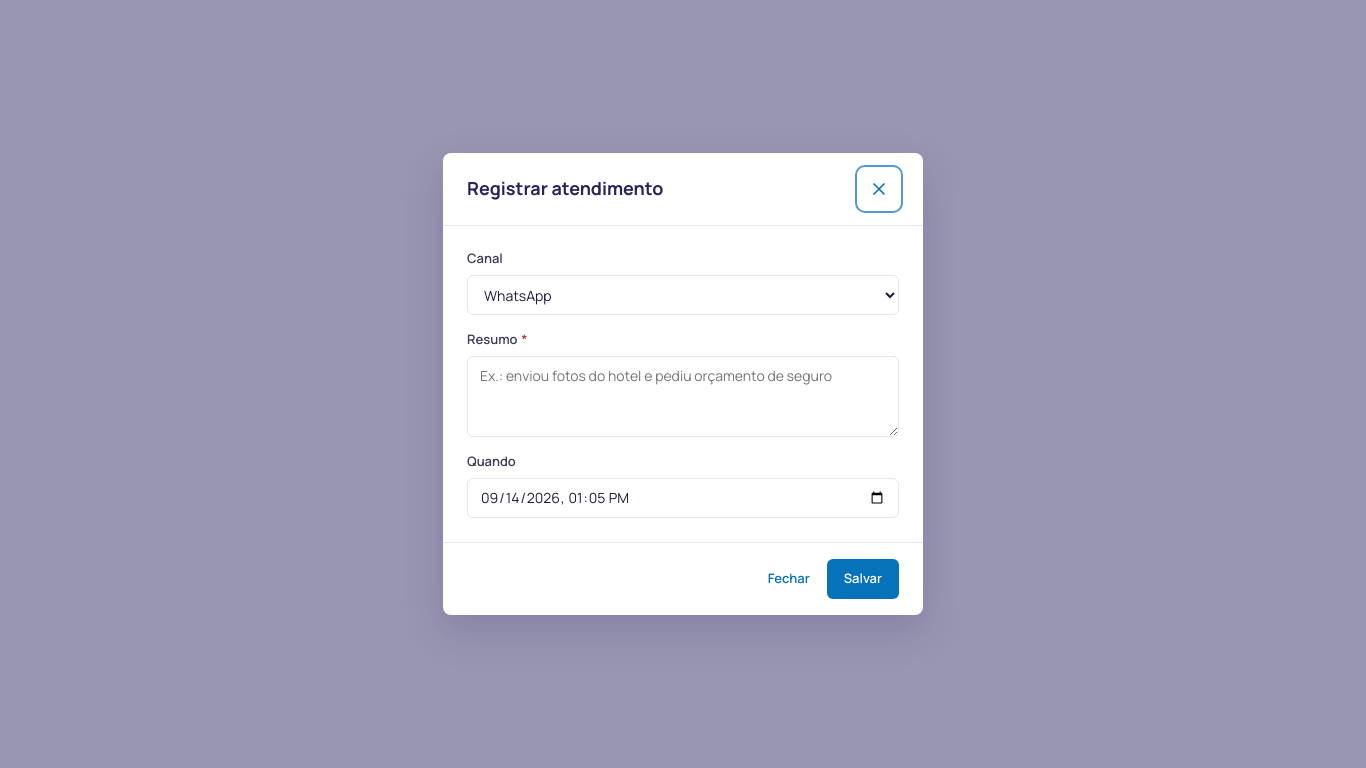
Test: erro de rede (F01): Alert com a mensagem e o dialog continua aberto
This screenshot has width=1366, height=768.
In the text box labelled "Resumo *": coordinates (683, 396) [467,356,899,437], type "Confirmou o embarque"
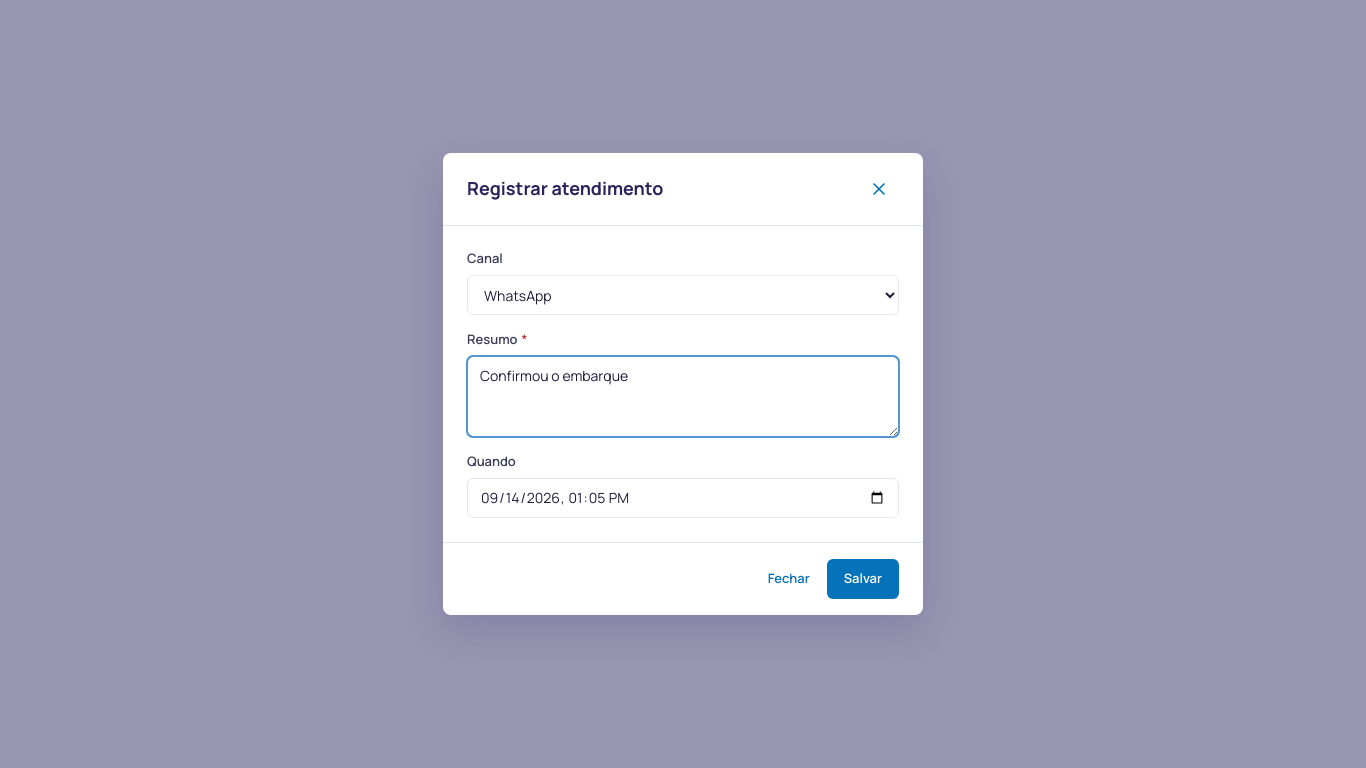
Click the button "Salvar": coordinates (863, 579) [827,559,899,599]
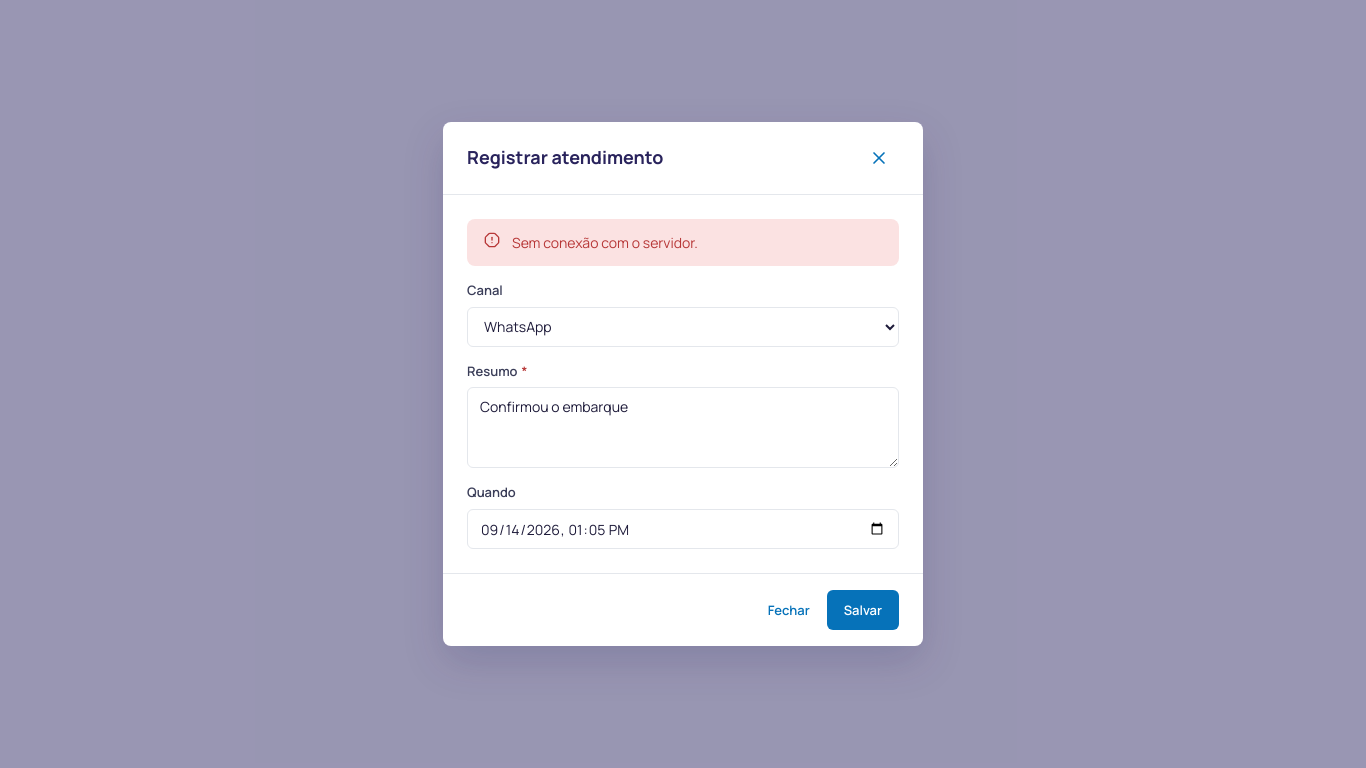
Expected: the message reads "Sem conexão com o servidor.", [512,233,698,252]
